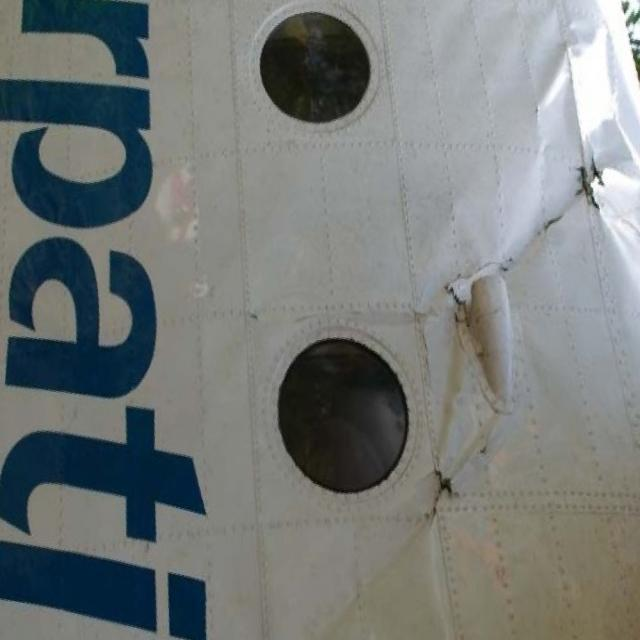crack: (543, 153, 608, 237), (425, 462, 462, 522)
dent: (532, 18, 640, 265)
